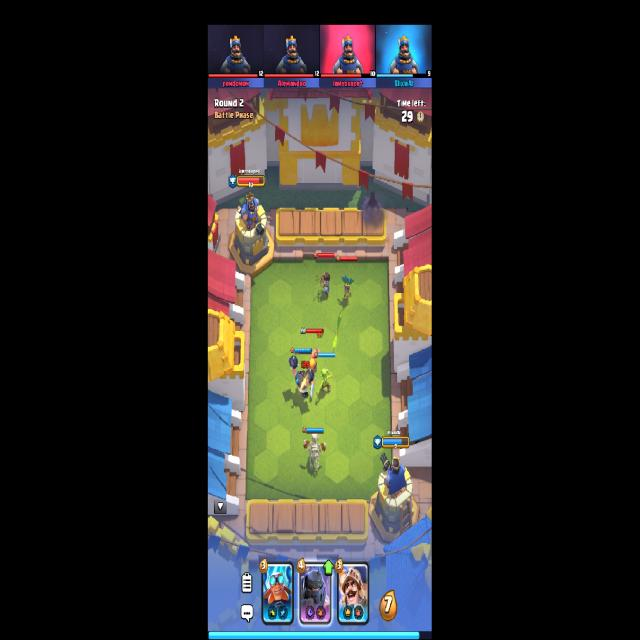barbarian: (306, 346, 320, 401)
card_electro_giant: (261, 562, 295, 628)
card_mega_knight: (300, 561, 334, 625)
card_prince: (337, 560, 369, 624)
dart_goblin: (340, 273, 354, 301)
goblin: (317, 368, 332, 398)
mega_knight: (287, 354, 316, 402)
princess: (315, 271, 330, 296)
skeleton_dragon: (303, 433, 327, 474)
